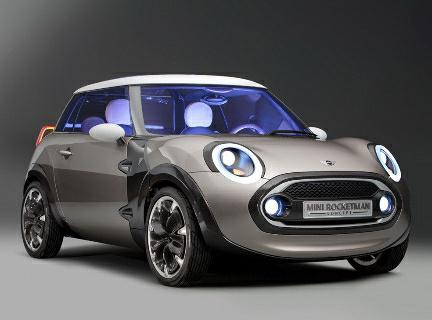MINI-ROCKETMAN: (10, 80, 417, 285)
